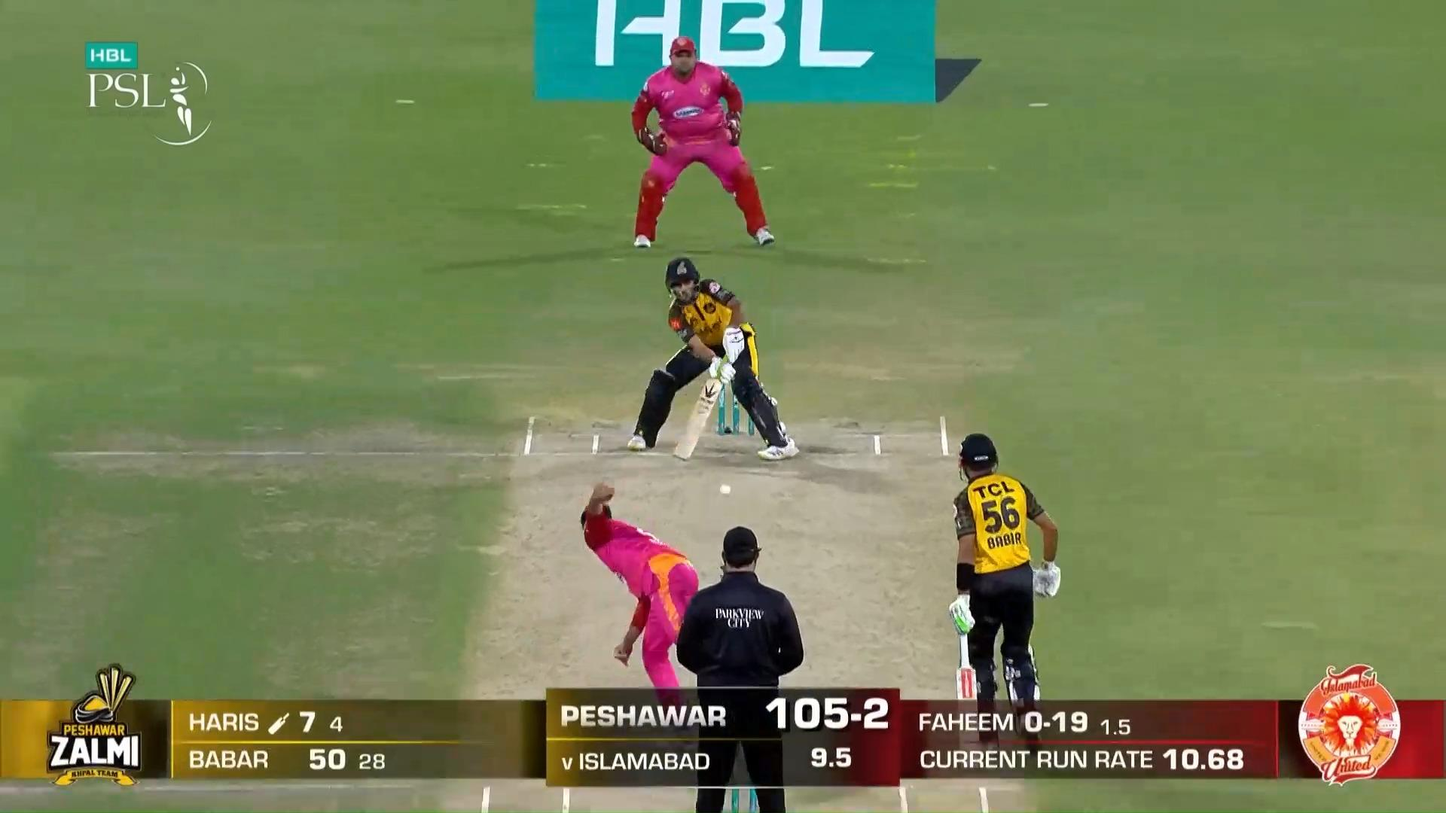batsman: (628, 257, 800, 462)
